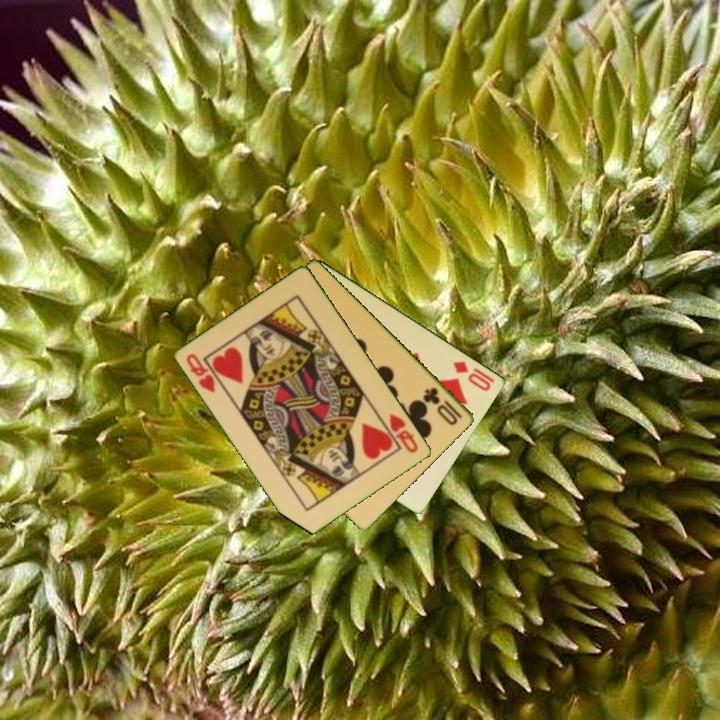10c: (420, 383, 465, 428)
10d: (450, 357, 498, 394)
Qh: (183, 350, 219, 396), (386, 410, 421, 456)
